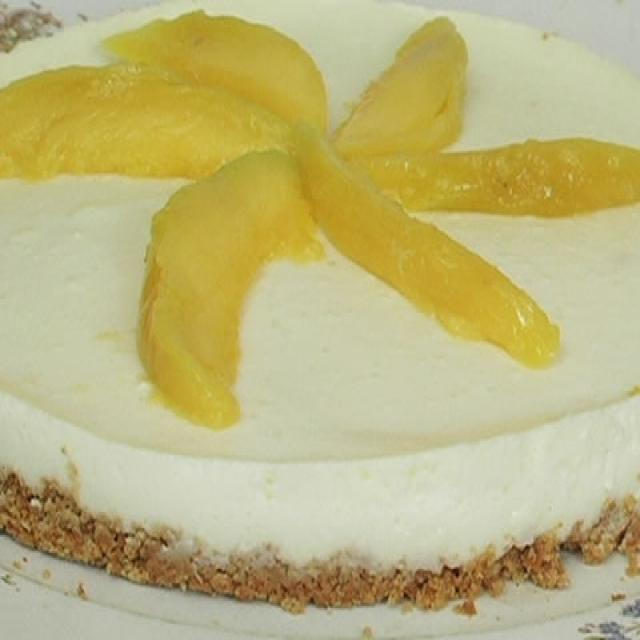蛋糕甜品: (8, 7, 621, 599)
